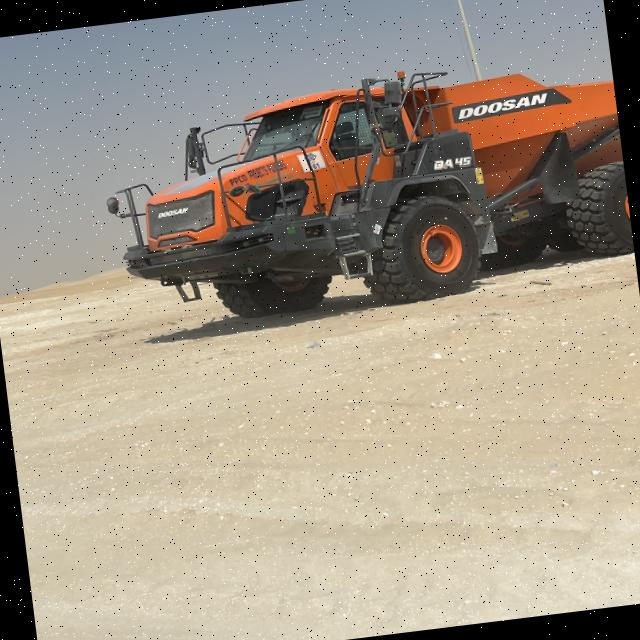Dump Truck: (94, 41, 636, 342)
